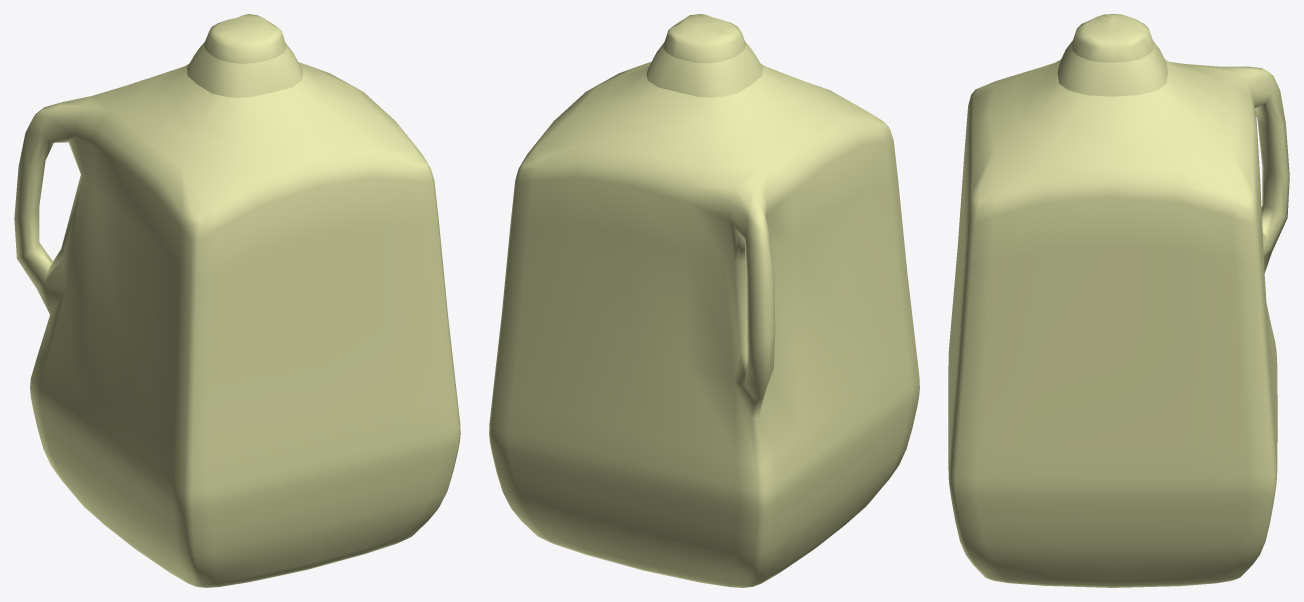
File: Milk_Jug.fbx
The picture shows the model from 3 angles, left to right: view 1: azimuth 30°, elevation 25°; view 2: azimuth 150°, elevation 25°; view 3: azimuth 270°, elevation 25°; orthographic projection. The views are drawn at different scales.
Visible parts, largest first — view 1: Milk_Jug; view 2: Milk_Jug; view 3: Milk_Jug.
Boxes of the visible parts, x1,y1,x2,y2 form: Milk_Jug: (14,14,460,587); Milk_Jug: (489,14,919,587); Milk_Jug: (948,14,1289,587).
Bounding box in the file's own units: 225 × 375 × 226.
